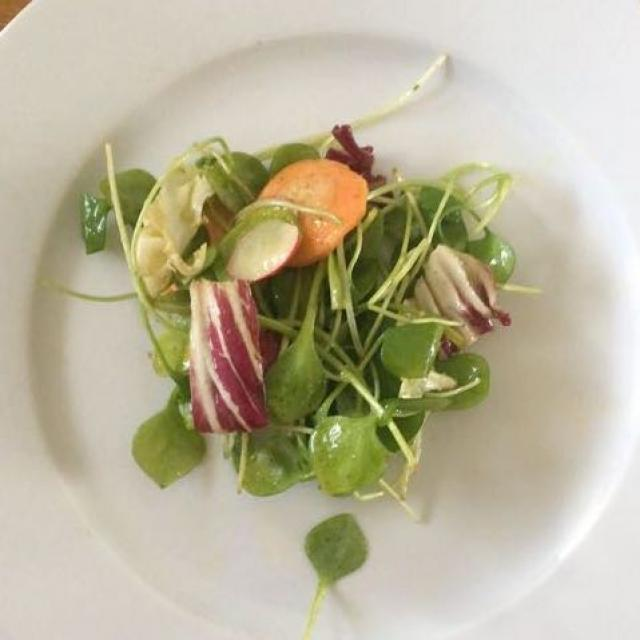carrot: (260, 150, 385, 265)
salad: (98, 133, 510, 487)
